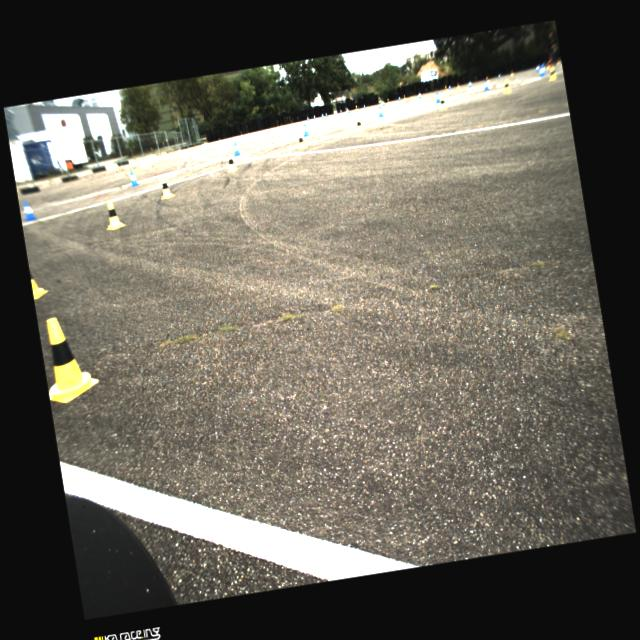blue_cone: (22, 201, 38, 221), (128, 170, 140, 187), (232, 142, 240, 156), (302, 124, 310, 136), (434, 92, 441, 104), (378, 106, 383, 118), (483, 80, 489, 90), (418, 91, 422, 99), (382, 100, 385, 106), (313, 114, 316, 120), (346, 107, 349, 113), (468, 82, 472, 86), (398, 96, 401, 101), (448, 85, 451, 90), (308, 116, 310, 122), (340, 108, 342, 114), (322, 113, 324, 118), (326, 112, 328, 117), (364, 104, 366, 108), (498, 74, 500, 78)
yellow_cone: (38, 313, 102, 406), (102, 199, 126, 231), (30, 269, 50, 299), (158, 176, 175, 200), (225, 152, 239, 172), (296, 132, 308, 150), (501, 78, 511, 94), (438, 95, 447, 110), (355, 118, 364, 132), (548, 68, 556, 80), (444, 85, 448, 94), (486, 76, 490, 85), (456, 82, 459, 89), (403, 94, 406, 100), (510, 70, 513, 76), (356, 105, 358, 112), (346, 107, 348, 112), (380, 100, 382, 105), (388, 98, 390, 102)
